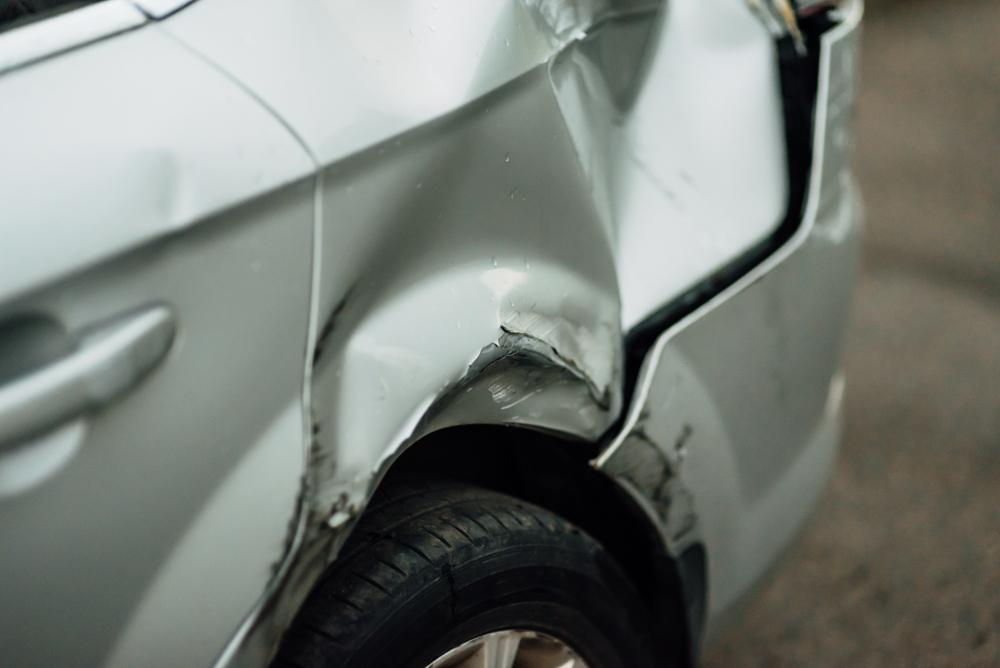dent: (302, 0, 787, 523)
scratch: (253, 444, 356, 625), (608, 401, 701, 544)
